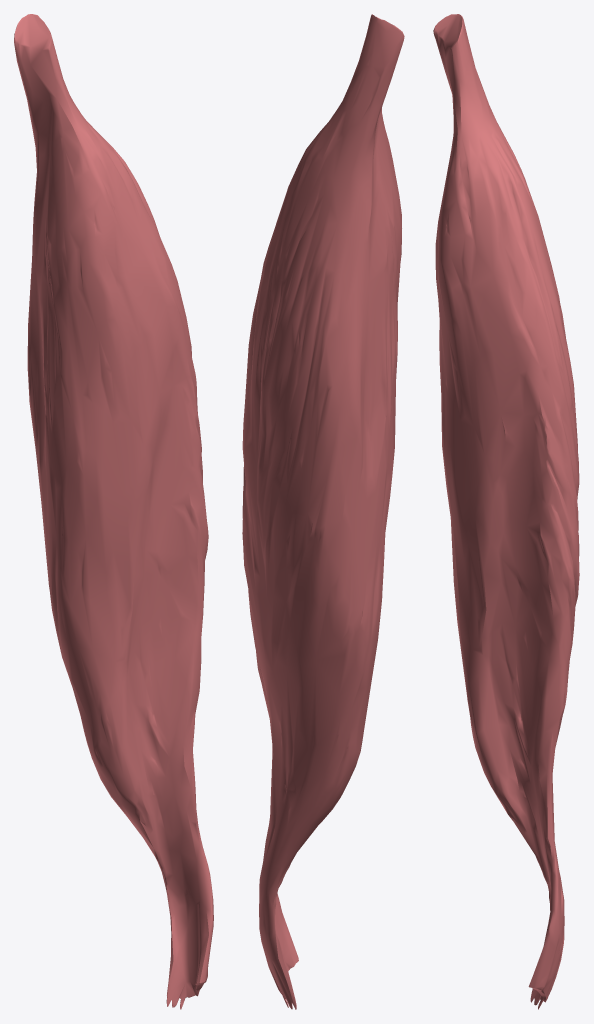
3 renders of one model, left to right at view 1: azimuth 30°, elevation 25°; view 2: azimuth 150°, elevation 25°; view 3: azimuth 330°, elevation 25°, orthographic. The views are drawn at different scales.
Visible parts, largest first — view 1: FJ1395M; view 2: FJ1395M; view 3: FJ1395M.
Boxes of the visible parts, bbox=[...] form: FJ1395M: bbox=[14, 14, 213, 1009]; FJ1395M: bbox=[242, 14, 404, 1009]; FJ1395M: bbox=[433, 14, 579, 1009].
Bounding box in the file's own units: 0.0776 × 0.4345 × 0.0536.
